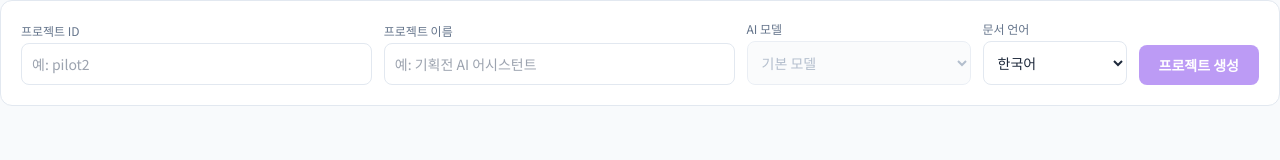
Scenario: CreateProjectForm › shows a Korean conflict message on 409
The width and height of the screenshot is (1280, 160).
Type "dup" into the field labelled "프로젝트 ID".
click(196, 64); type("dup")  # box [21,43,372,85]
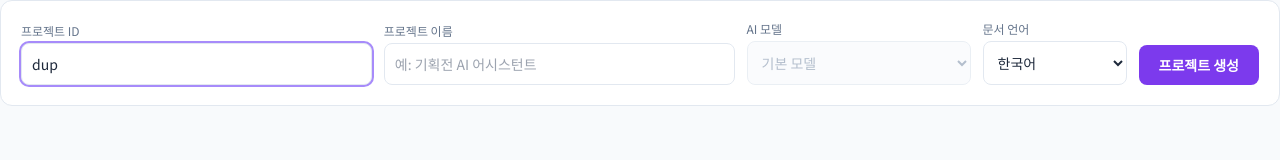
Type "세션" into the field labelled "프로젝트 이름".
click(559, 64); type("세션")  # box [384,43,735,85]
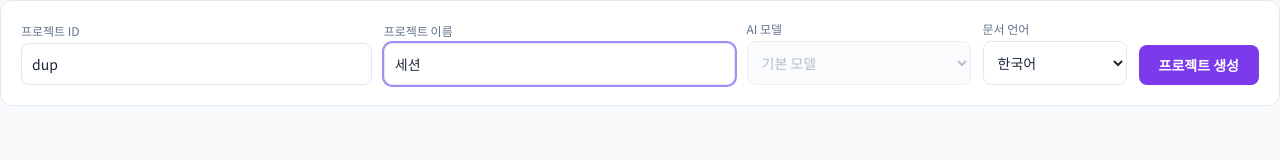
Click the button "프로젝트 생성".
click(1199, 65)  # box [1138,45,1259,85]
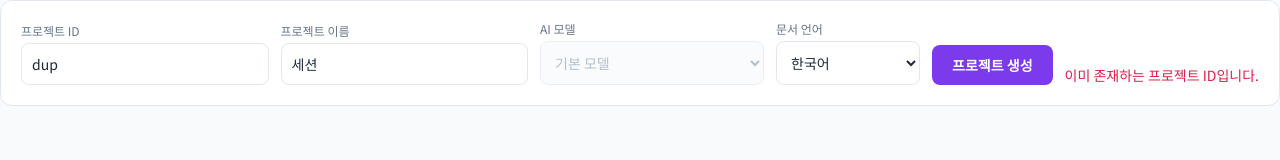
Now the text "이미 존재하는 프로젝트 ID입니다." is shown, box [1064,65,1259,85]
